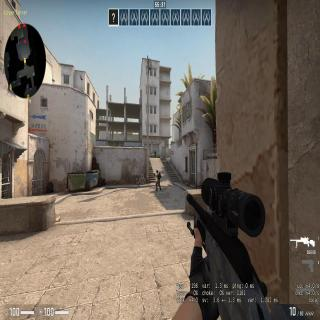CT-Body: (152, 169, 162, 189), (154, 148, 156, 158)
CT-Head: (156, 169, 158, 173), (154, 149, 155, 151)
